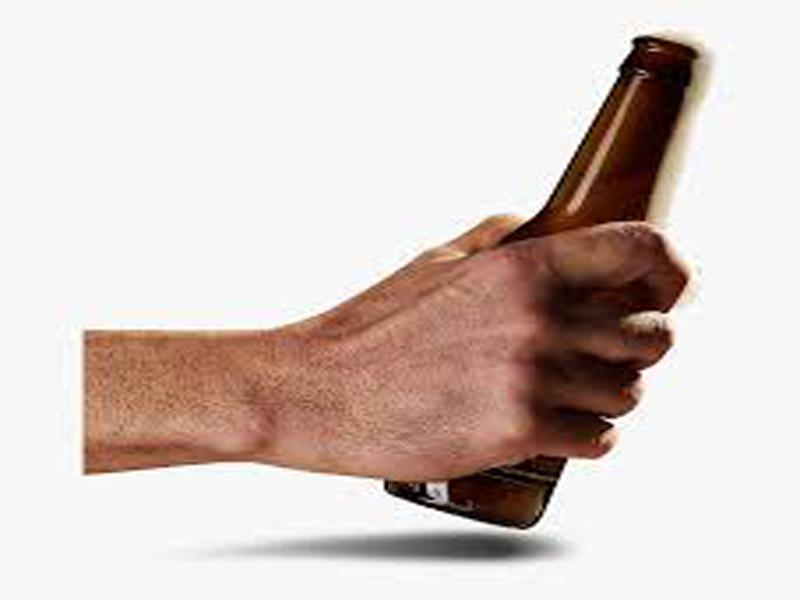Beer: (384, 38, 698, 535)
